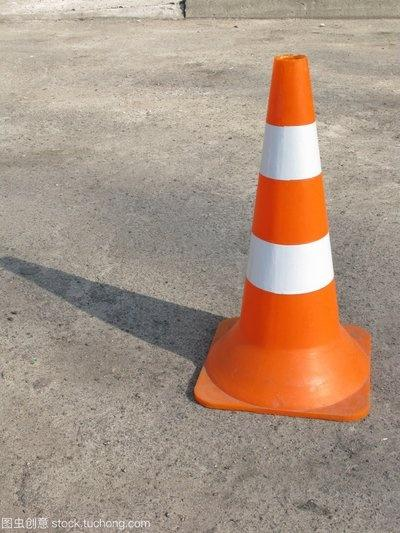cone_barrel: (199, 54, 365, 409)
